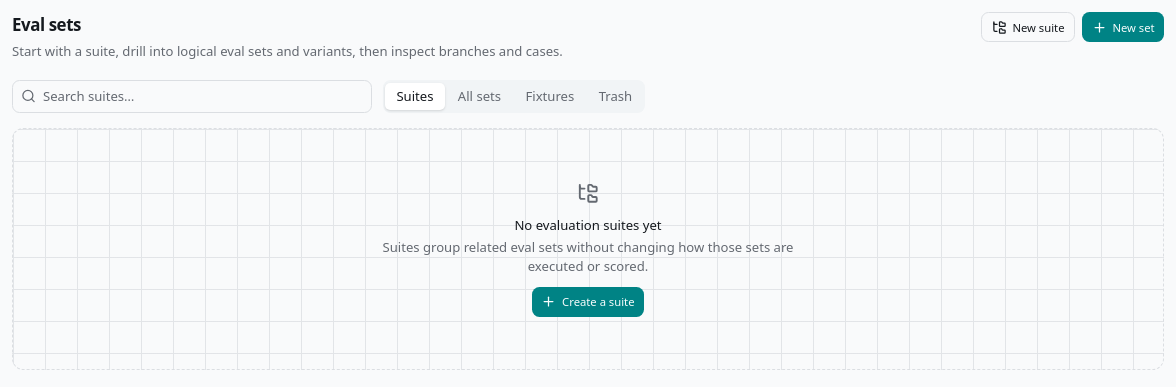
Test: SetsPage › switches to the trash view
Expected: the text "No evaluation suites yet" is shown, [514,216,662,234]
Click the tab "Trash". click: (615, 96)
box: [587,83,643,110]
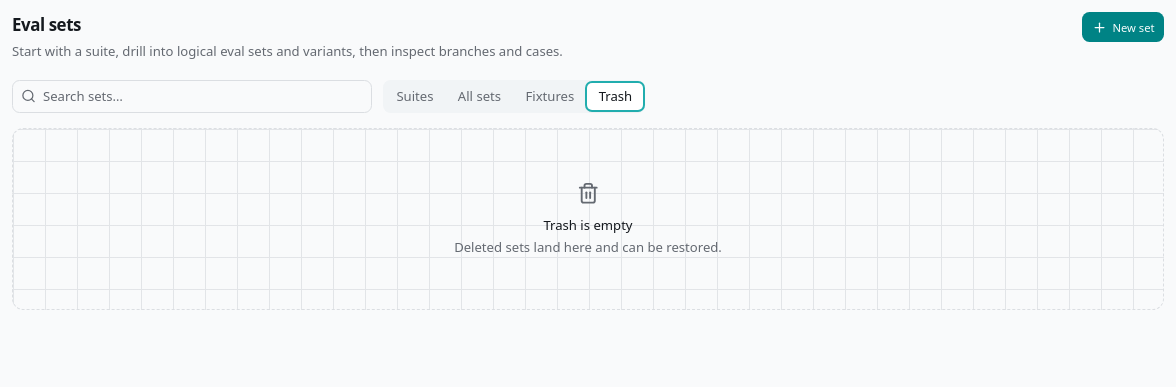
Now the text "Trash is empty" is shown, box [543,216,632,234]
